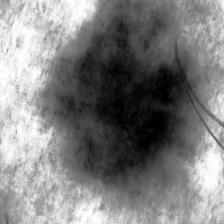Benign Marking or Mole: (53, 1, 194, 191)
